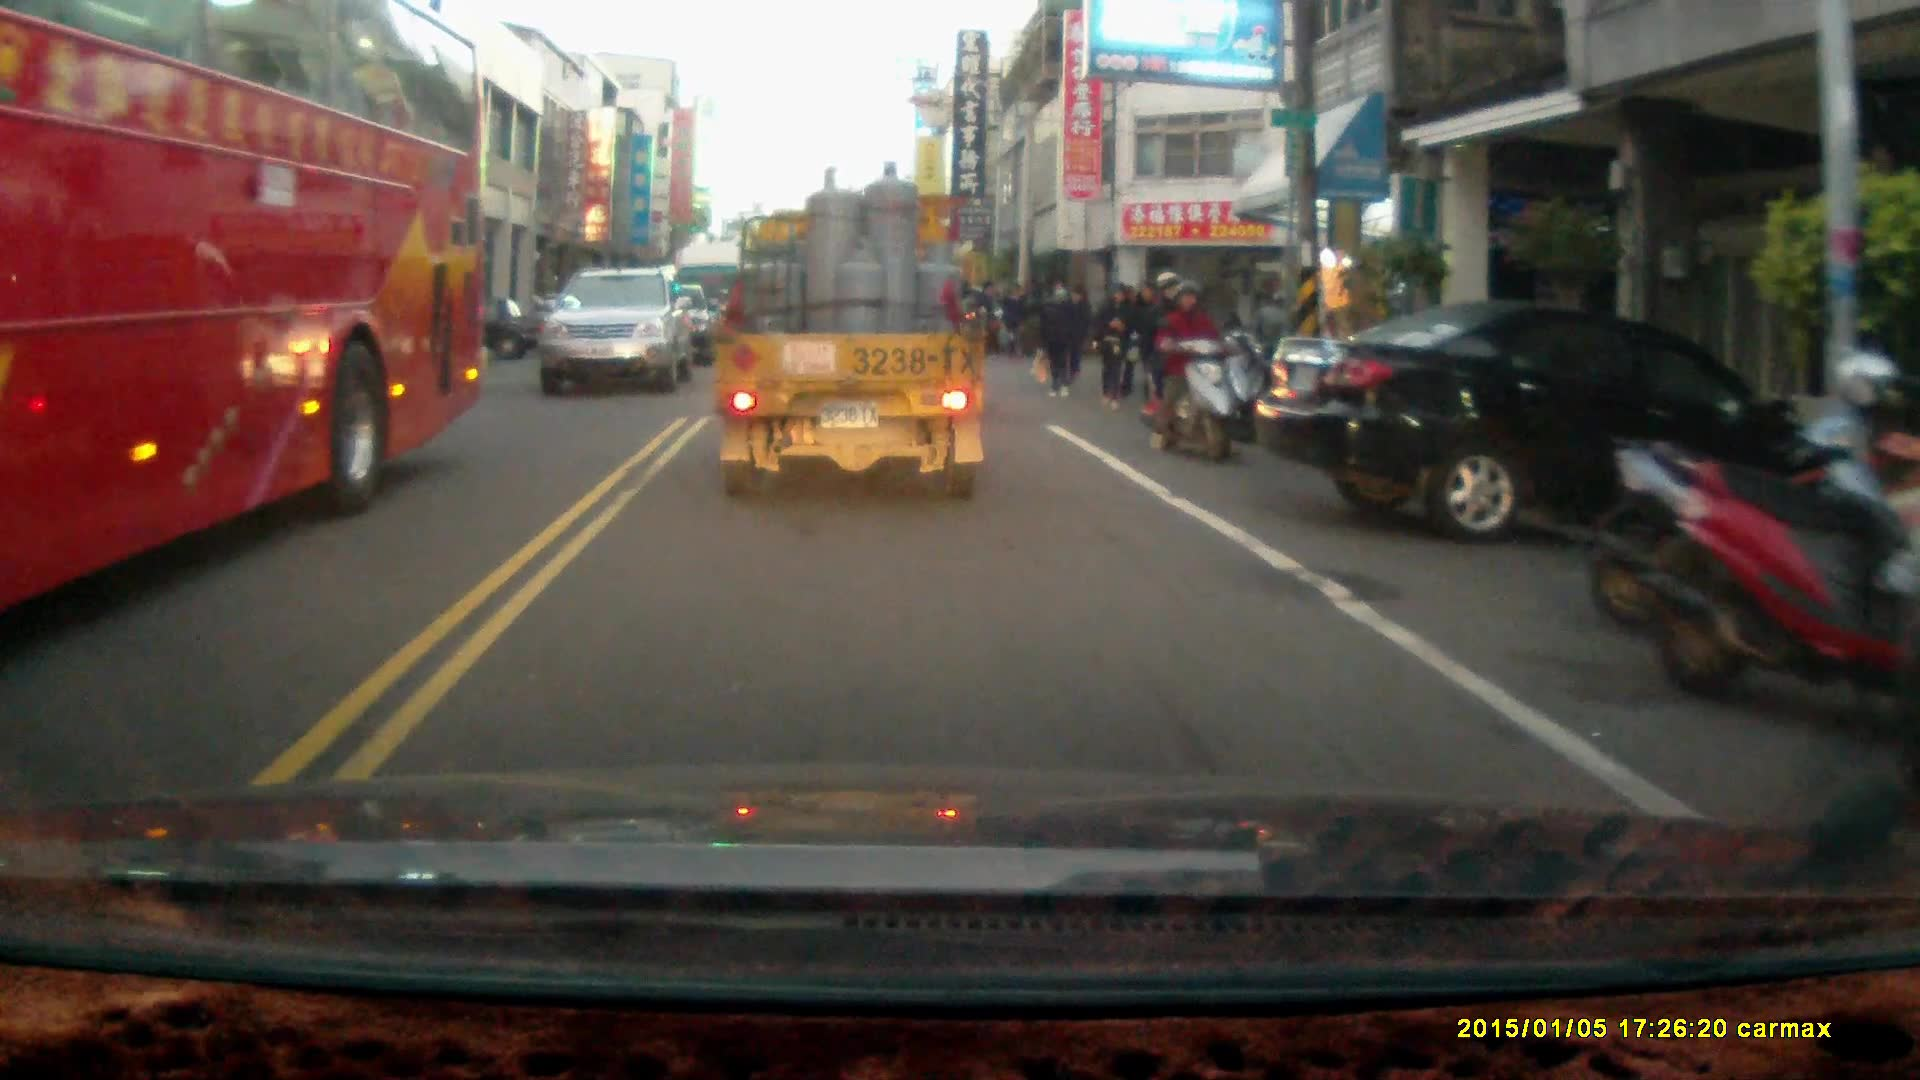pedestrian: (1131, 278, 1178, 412), (1035, 277, 1078, 398), (1097, 280, 1136, 412), (1000, 276, 1028, 356)
rider: (1140, 268, 1231, 457)
vehicle: (1, 7, 494, 620), (1258, 302, 1828, 541), (715, 161, 994, 502), (540, 267, 690, 400)
